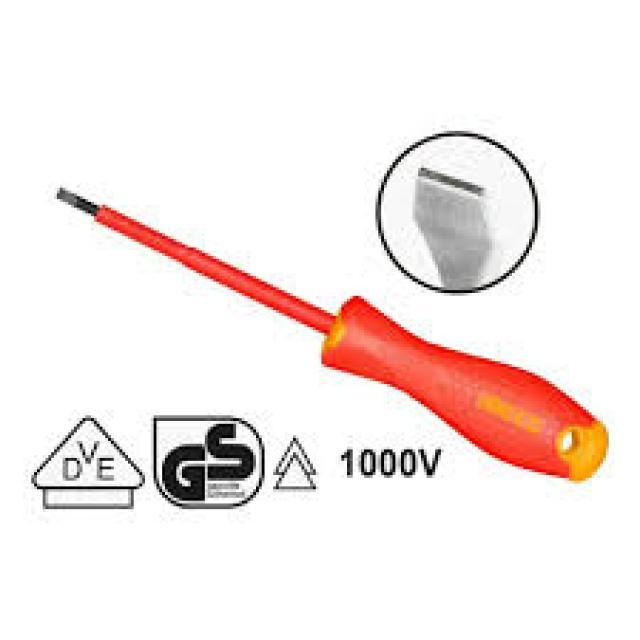screwdriver: (48, 182, 620, 489)
